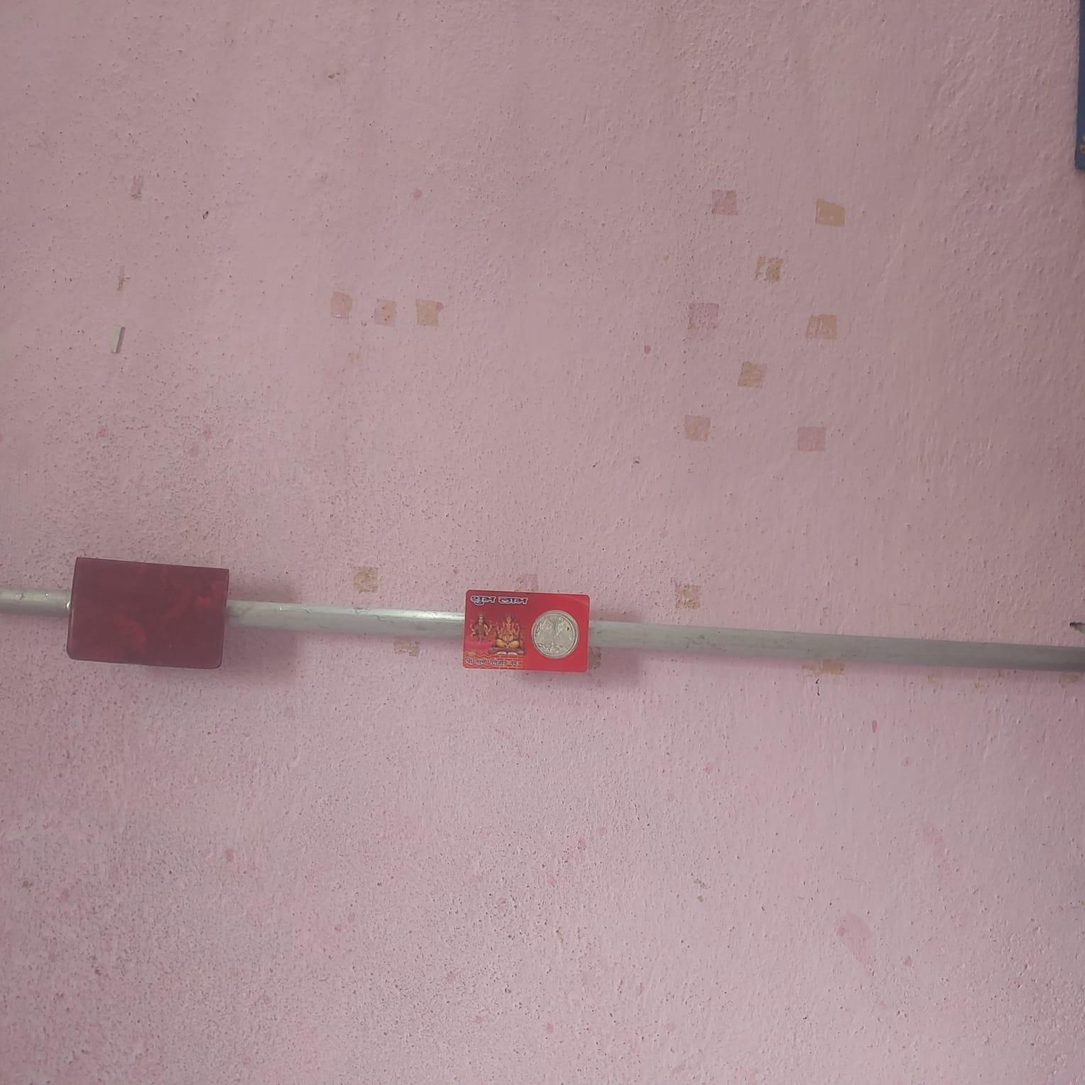blessing_card: (461, 588, 601, 677)
wallet: (65, 547, 234, 675)
